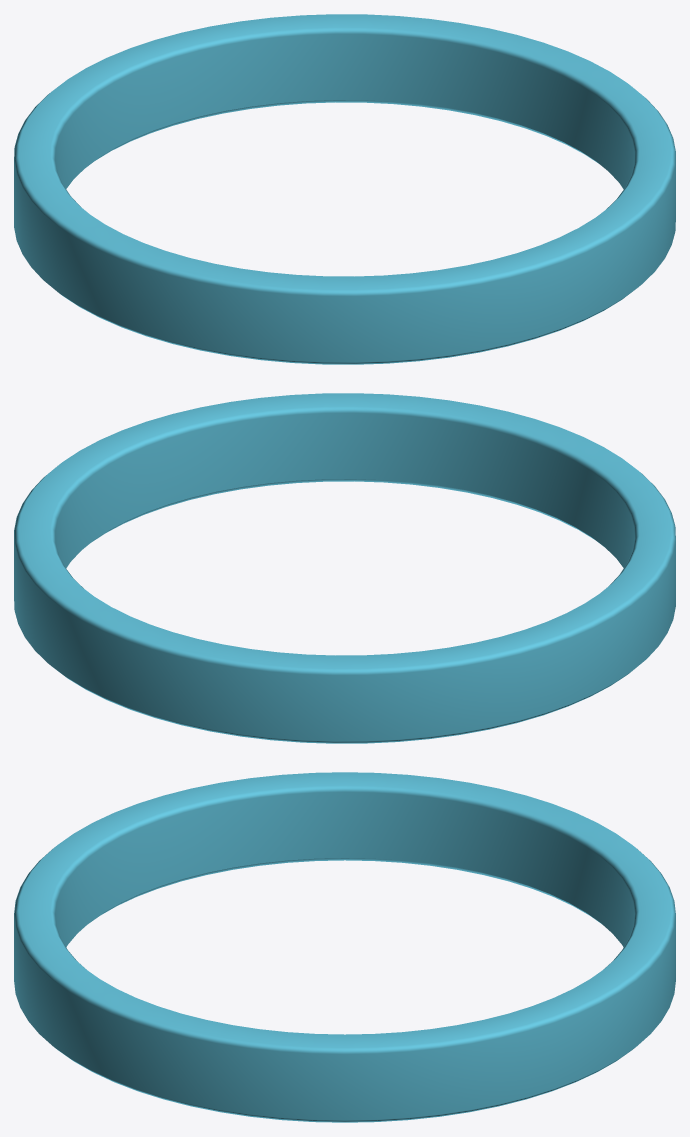
The picture shows the model from 3 angles, top to bottom: view 1: azimuth 30°, elevation 25°; view 2: azimuth 150°, elevation 25°; view 3: azimuth 270°, elevation 25°; orthographic projection.
Parts seen in each view (by area): view 1: seal_body; view 2: seal_body; view 3: seal_body.
Boxes of the visible parts, bbox=[...] form: seal_body: bbox=[14, 14, 675, 364]; seal_body: bbox=[14, 393, 675, 743]; seal_body: bbox=[14, 772, 675, 1122].
Size of the model in its own units: 0.0762 by 0.00952 by 0.0762.
